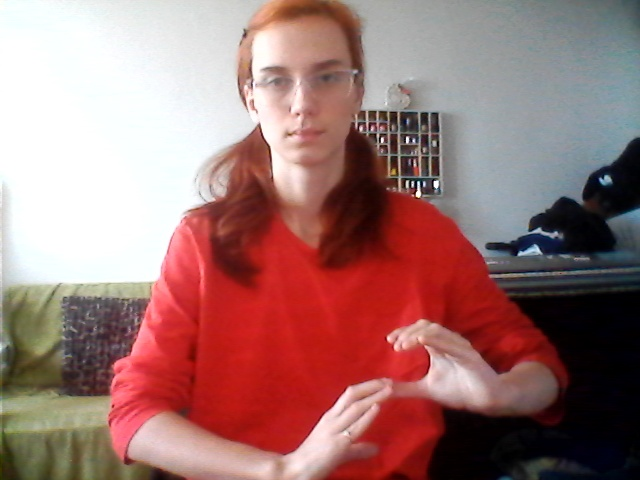s: (306, 275, 499, 480)
